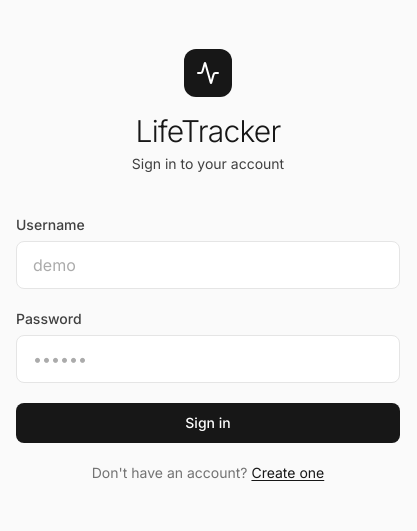
LoginPage › shows generic error when no message from server
The image size is (417, 531).
Type "testuser" into the field with placeholder "demo" at x=208, y=265, box [16,241,400,289]
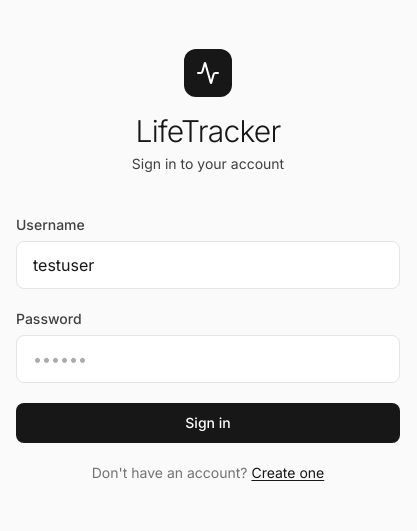
Type "wrongpass" into the password field with placeholder "••••••" at x=208, y=359, box [16,335,400,383]
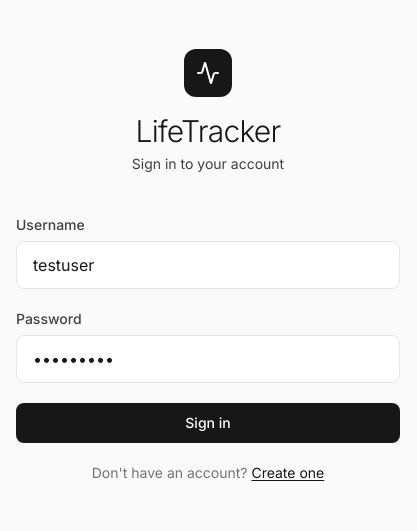
Click the button "Sign in" at x=208, y=423, box [16,403,400,443]
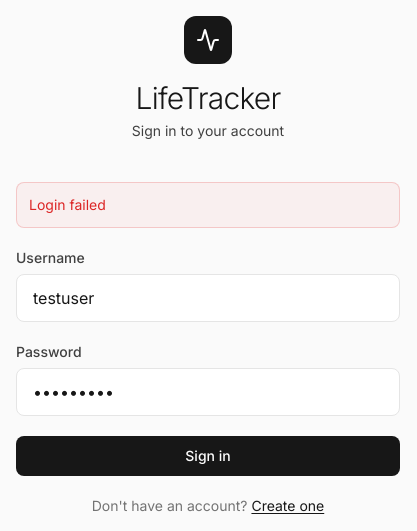
Result: the text "Login failed" is shown at [16,182,400,228]
